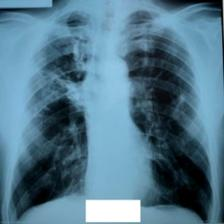tuberculosis: (3, 8, 216, 224)
